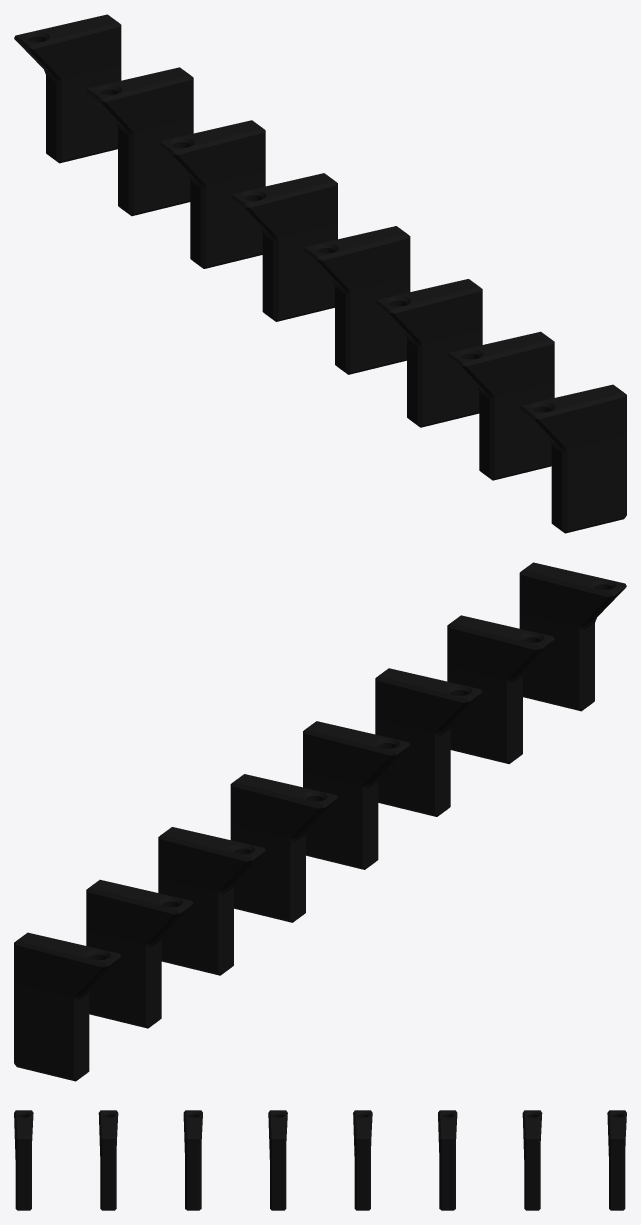
Rendered from armrest8.fbx.
3 renders of one model, top to bottom at view 1: azimuth 30°, elevation 25°; view 2: azimuth 150°, elevation 25°; view 3: azimuth 270°, elevation 25°, orthographic. The views are drawn at different scales.
Parts seen in each view (by area): view 1: ArmRest.003; view 2: ArmRest.003; view 3: ArmRest.003.
Part boxes in pixels (x1,y1,x2,y2): ArmRest.003: (14,14,626,533); ArmRest.003: (14,562,626,1081); ArmRest.003: (14,1110,626,1210).
Bounding box in the file's own units: 153 × 194 × 1447.
